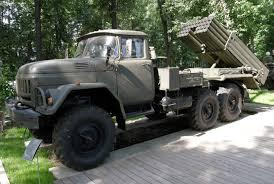MIL_SAM_TEL: (11, 16, 267, 167)
